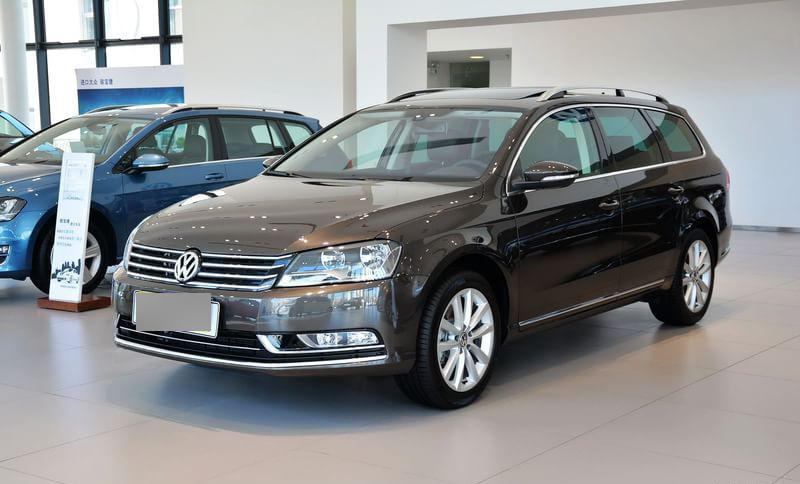Wagon: (109, 82, 734, 409)
